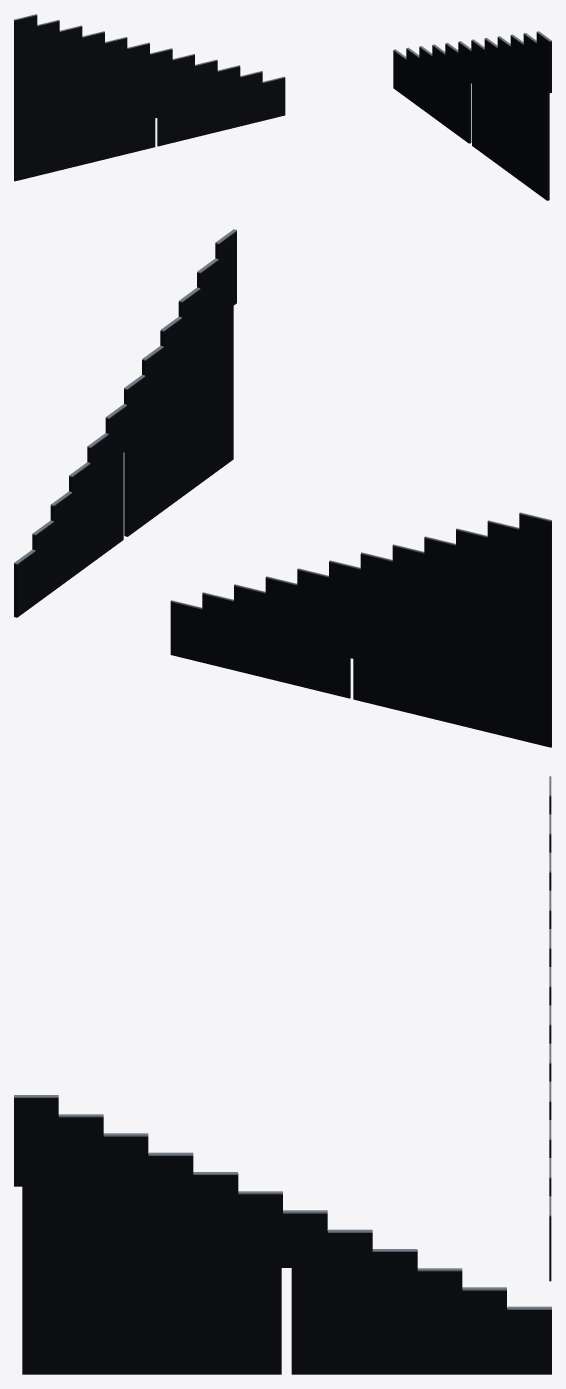
File: tt_struct_f3_corner_cheeks_nw.glb
3 views of the same model, one above another, from view 1: azimuth 30°, elevation 25°; view 2: azimuth 150°, elevation 25°; view 3: azimuth 270°, elevation 25° (orthographic). The views are drawn at different scales.
Visible parts, largest first — view 1: Cheek_Wall, Cheek_Cap; view 2: Cheek_Wall, Cheek_Cap; view 3: Cheek_Wall, Cheek_Cap.
Part boxes in pixels (bbox=[...]): Cheek_Wall: bbox=[14, 15, 551, 200]; Cheek_Cap: bbox=[14, 14, 551, 82]; Cheek_Wall: bbox=[14, 231, 551, 747]; Cheek_Cap: bbox=[14, 229, 551, 609]; Cheek_Wall: bbox=[14, 796, 551, 1374]; Cheek_Cap: bbox=[14, 776, 551, 1309].
Size of what is drawn, in the model's own units: 16.08 by 6.5 by 11.4.
2 materials, 2 textured.
